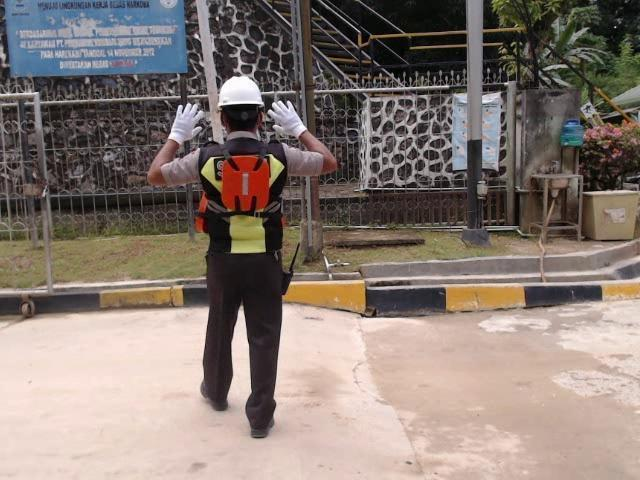0: (169, 104, 211, 144), (270, 91, 304, 140)
Boots: (215, 69, 267, 114)
Glass: (198, 141, 294, 210)
